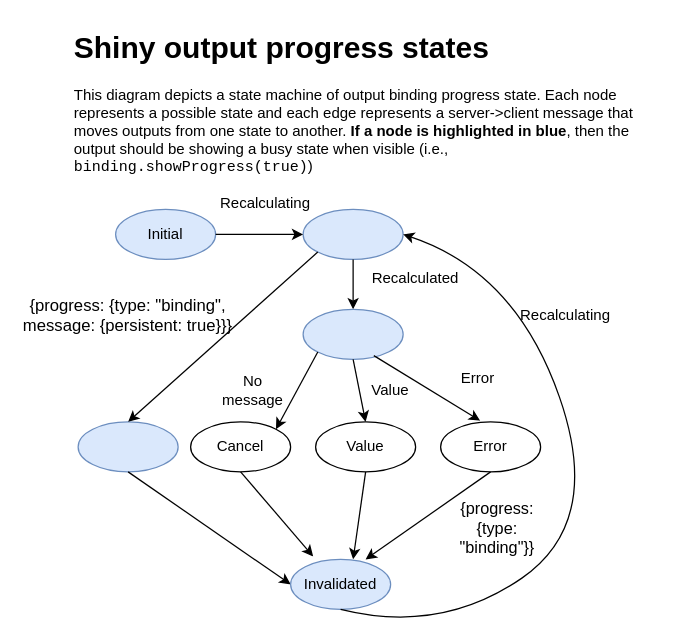
This 674x639 diagram has some shape labels left out. Each missing label, with the box of its shape:
Idle: (302, 308, 403, 359)
Persistent: (77, 421, 178, 472)
Running: (302, 208, 403, 259)
